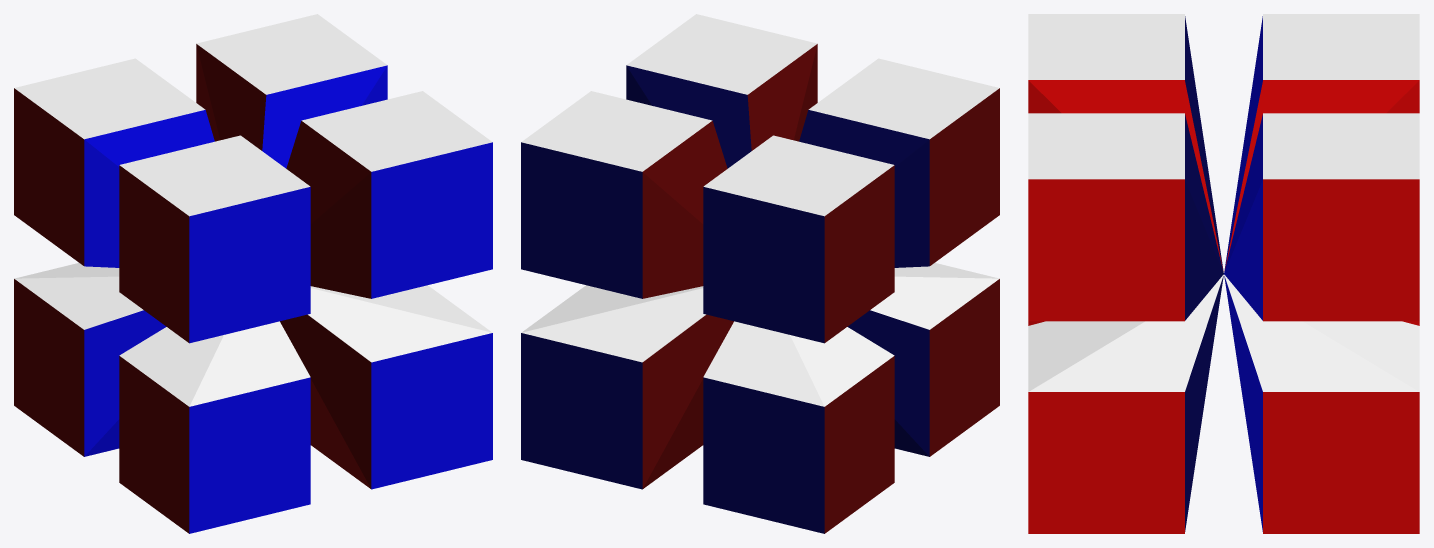
File: labeled_CAD.glb
3 views of the same model, side by side, from view 1: azimuth 30°, elevation 25°; view 2: azimuth 150°, elevation 25°; view 3: azimuth 270°, elevation 25° (orthographic). The views are drawn at different scales.
Size of the model in its own units: 20 by 20 by 20.
Materials: 1 (1 with a texture image).
